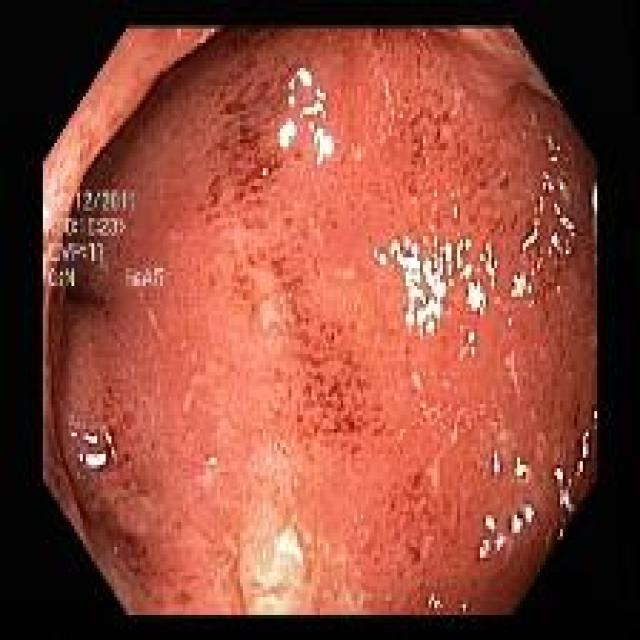ulcerative-colitis: (50, 31, 598, 614)
